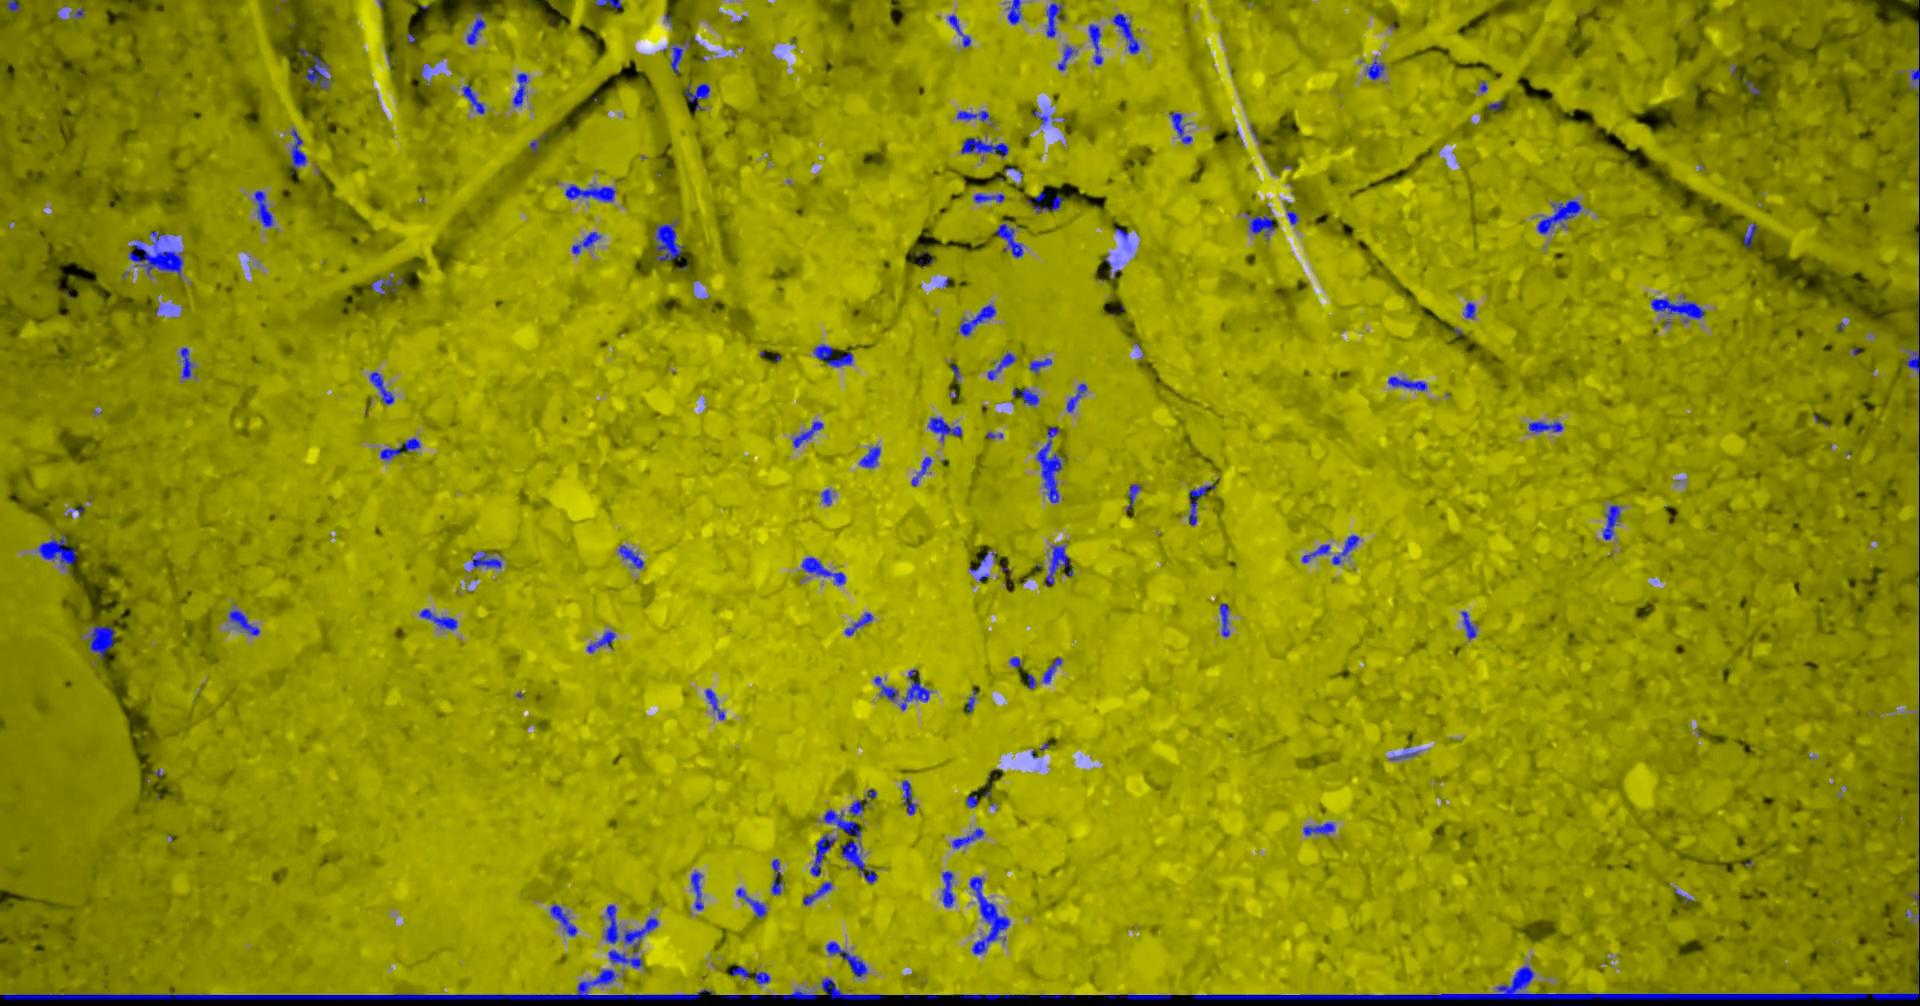ant: (969, 876, 1010, 954), (607, 917, 658, 967), (128, 230, 182, 277), (1036, 426, 1062, 502), (841, 840, 877, 883), (1650, 293, 1703, 323), (1537, 199, 1581, 232), (825, 941, 866, 976), (822, 977, 883, 998), (801, 558, 844, 586), (959, 304, 996, 335), (38, 533, 75, 565), (655, 221, 683, 260), (822, 809, 861, 837), (1112, 13, 1139, 53), (1189, 484, 1215, 525), (899, 674, 930, 710), (810, 835, 836, 876), (960, 137, 1008, 158), (1045, 545, 1069, 586), (735, 887, 766, 917), (303, 55, 330, 89), (378, 437, 420, 459), (813, 343, 852, 366), (549, 904, 577, 936), (996, 224, 1022, 257), (89, 625, 116, 658), (564, 184, 615, 201), (927, 417, 961, 441), (1331, 533, 1357, 564), (229, 608, 259, 635), (987, 352, 1015, 380), (792, 420, 822, 447), (419, 608, 457, 629), (1026, 191, 1062, 212), (370, 371, 392, 404), (947, 15, 970, 47), (290, 130, 306, 173), (1170, 112, 1191, 144), (952, 827, 983, 848), (1045, 3, 1064, 37), (684, 83, 709, 109), (571, 231, 599, 254), (844, 612, 872, 635), (803, 882, 830, 904), (254, 191, 272, 226), (462, 84, 484, 113), (585, 630, 615, 652), (466, 11, 485, 44), (910, 456, 931, 486), (1248, 213, 1275, 236), (1603, 504, 1620, 539), (872, 676, 897, 700), (705, 688, 724, 719), (1065, 384, 1086, 412), (618, 545, 643, 568), (1088, 24, 1102, 64), (1387, 376, 1426, 390), (512, 72, 528, 105), (471, 550, 502, 568), (690, 871, 703, 909), (604, 904, 618, 942), (1302, 544, 1330, 561), (1043, 657, 1062, 682), (902, 780, 916, 814), (1012, 387, 1039, 405), (858, 446, 880, 467), (375, 277, 403, 293), (1057, 44, 1074, 70), (1126, 483, 1142, 511), (1460, 611, 1476, 639), (771, 857, 782, 894), (180, 347, 193, 379), (1303, 822, 1335, 835), (1366, 55, 1383, 79), (781, 989, 818, 1000), (1742, 222, 1757, 246), (848, 796, 867, 815), (1528, 420, 1562, 431), (942, 871, 952, 906), (1219, 603, 1229, 636), (956, 111, 988, 121), (1029, 358, 1051, 372), (1007, 0, 1020, 24), (964, 688, 977, 713), (670, 46, 682, 72), (1905, 351, 1919, 372), (951, 995, 1029, 998), (973, 193, 1004, 202), (1103, 995, 1171, 998), (1743, 79, 1760, 94), (731, 965, 749, 978), (1911, 67, 1919, 97), (1462, 302, 1476, 318), (754, 970, 770, 984), (594, 0, 621, 8), (965, 790, 977, 807), (5, 0, 19, 11), (822, 488, 830, 504), (1286, 210, 1297, 224), (1039, 995, 1074, 998)
